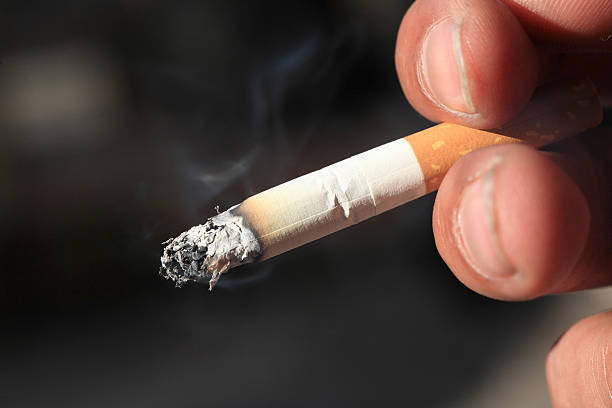cigarette: (159, 75, 612, 280)
